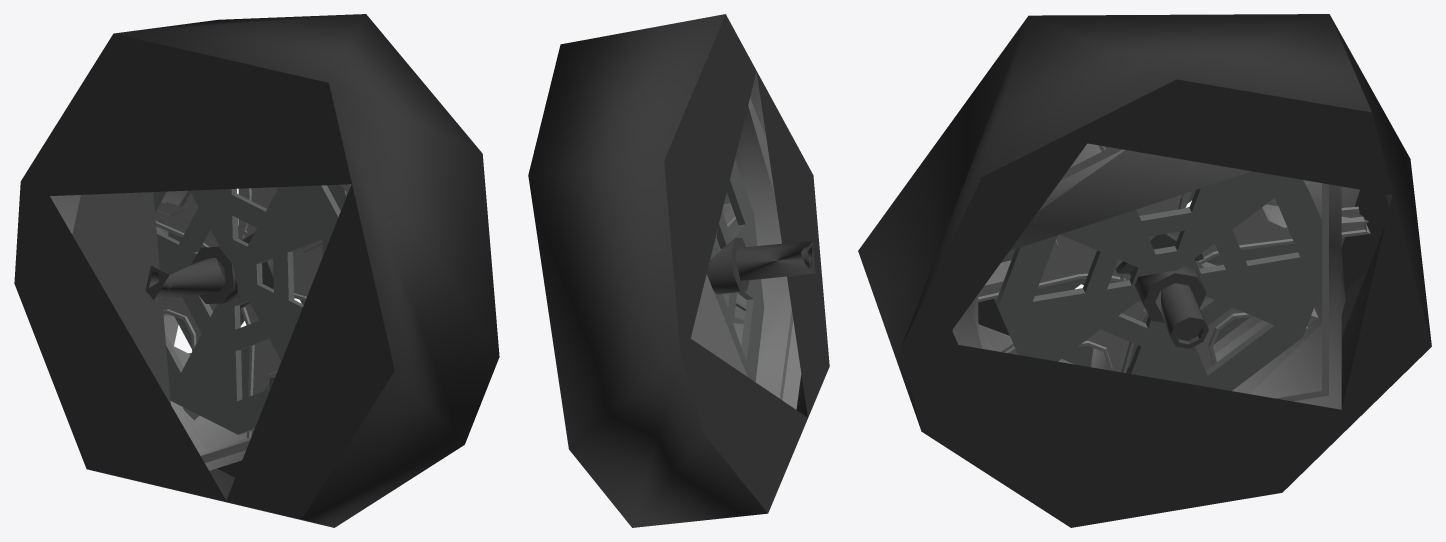
File: wheelF.glb
The picture shows the model from 3 angles, left to right: view 1: azimuth 30°, elevation 25°; view 2: azimuth 150°, elevation 25°; view 3: azimuth 270°, elevation 25°; orthographic projection. The views are drawn at different scales.
Visible parts, largest first — view 1: Wheel_F_Textures_0, Wheel_F_Mat Wheel_0; view 2: Wheel_F_Textures_0, Wheel_F_Mat Wheel_0; view 3: Wheel_F_Textures_0, Wheel_F_Mat Wheel_0.
Part boxes in pixels (x1,y1,x2,y2): Wheel_F_Textures_0: (14,14,499,527); Wheel_F_Mat Wheel_0: (50,184,391,470); Wheel_F_Textures_0: (528,14,829,527); Wheel_F_Mat Wheel_0: (690,71,801,409); Wheel_F_Textures_0: (858,14,1431,527); Wheel_F_Mat Wheel_0: (952,143,1370,409).
Bounding box in the file's own units: 0.2105 × 0.3372 × 0.3513.
2 materials, 1 textured.
